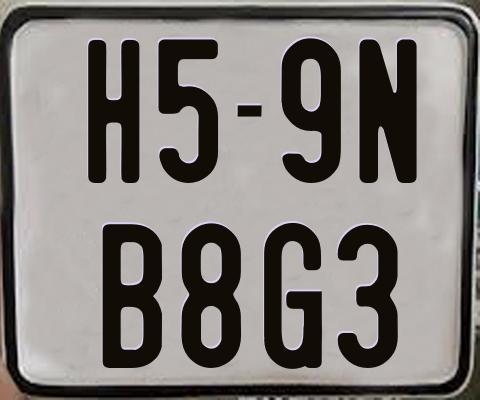3: (335, 223, 400, 372)
5: (157, 37, 218, 183)
8: (179, 220, 241, 369)
9: (279, 35, 339, 182)
B: (102, 223, 163, 370)
G: (263, 221, 326, 371)
H: (88, 39, 142, 184)
N: (358, 38, 417, 183)
